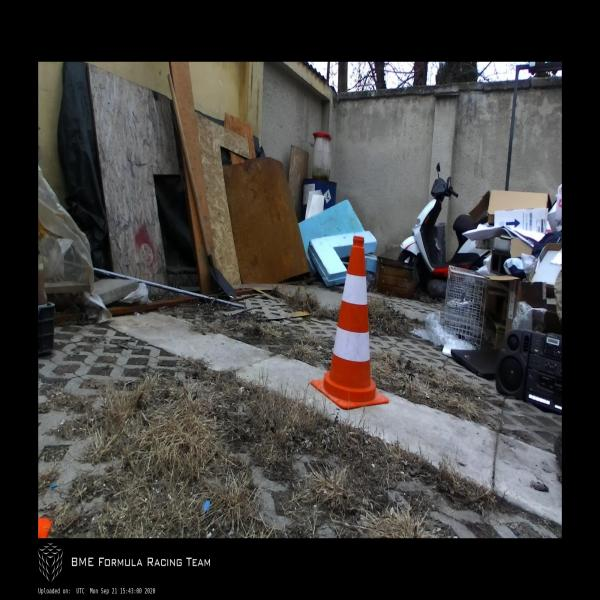large_orange_cone: (311, 236, 389, 410)
